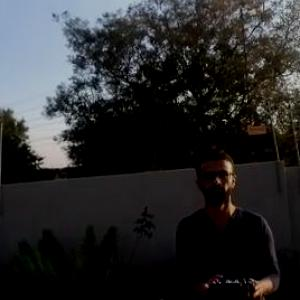follow: (175, 149, 290, 299)
